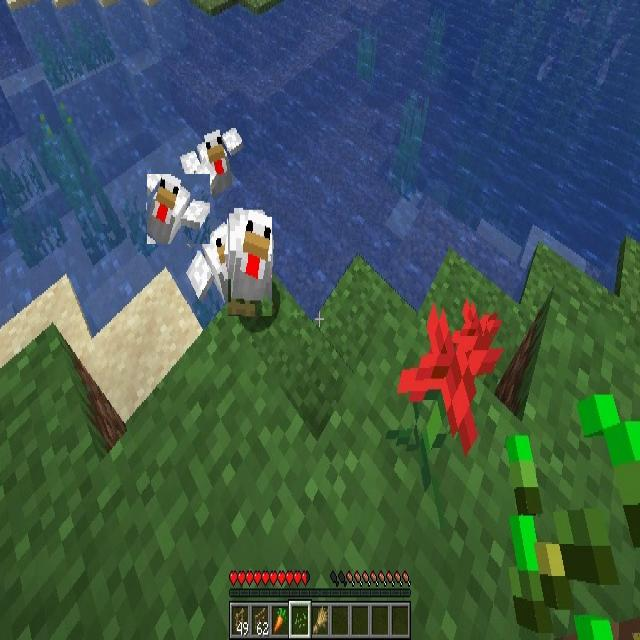duck: (228, 207, 272, 316), (147, 174, 210, 244), (188, 213, 233, 304), (184, 127, 244, 189)
